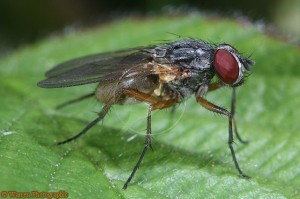green bottles flies: (36, 32, 268, 187)
